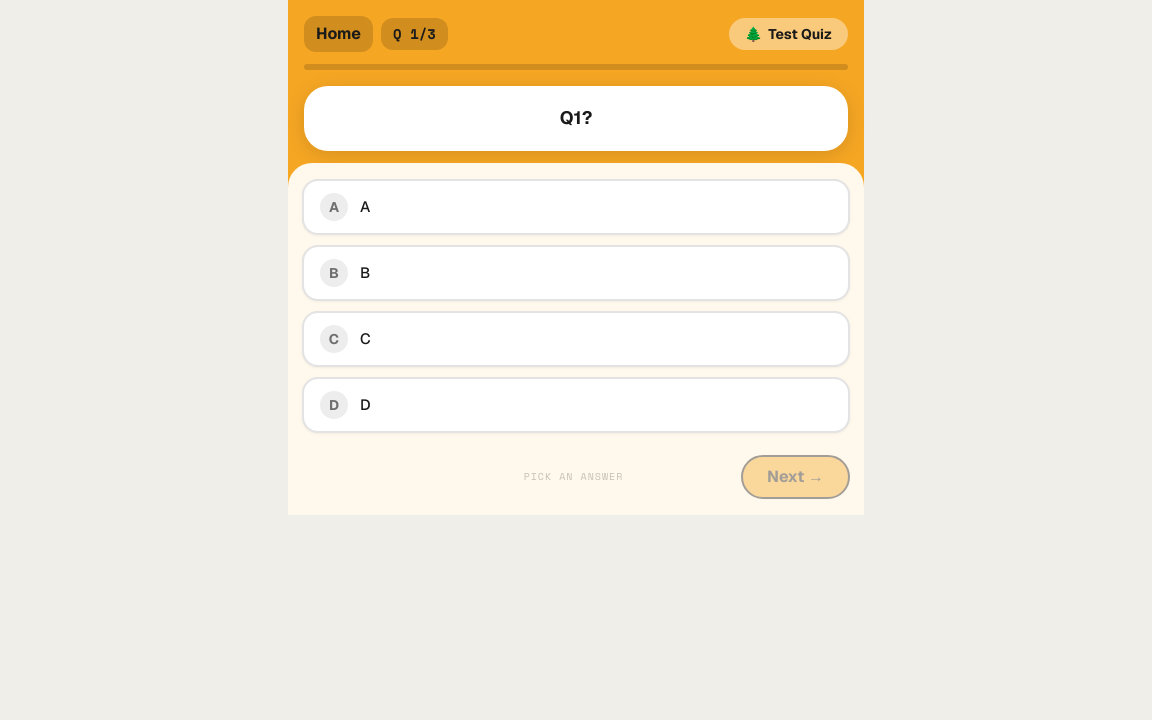
Test: QuizPlayer › counts only correct answers
The width and height of the screenshot is (1152, 720).
Click the button with test id "option": x=334, y=273 [302,245,850,301]
Wait 2500 ms
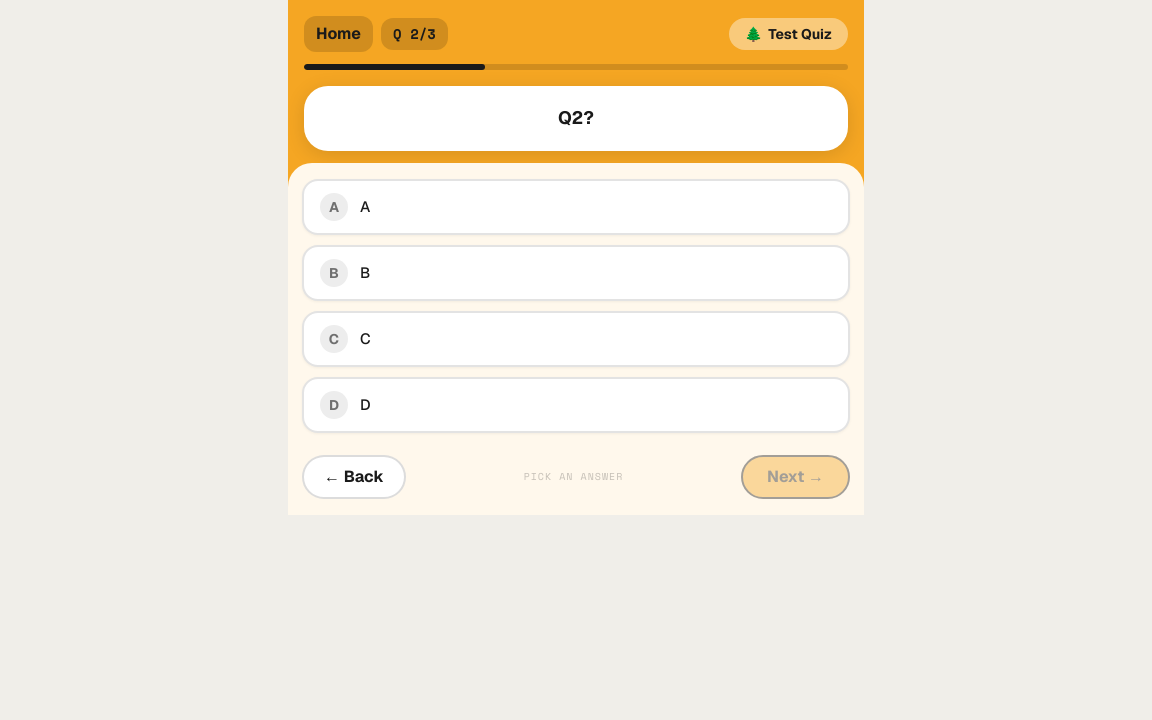
Click the button with test id "option": x=334, y=273 [302,245,850,301]
Wait 2500 ms
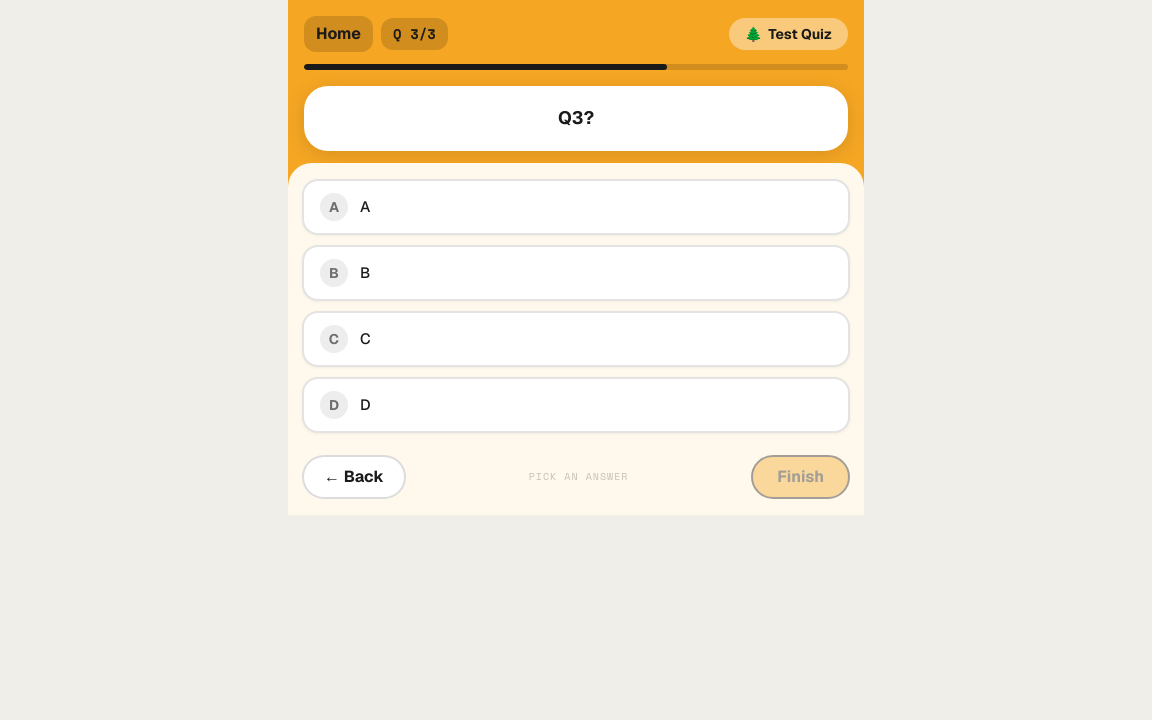
Click the button with test id "option": x=334, y=339 [302,311,850,367]
Wait 2500 ms
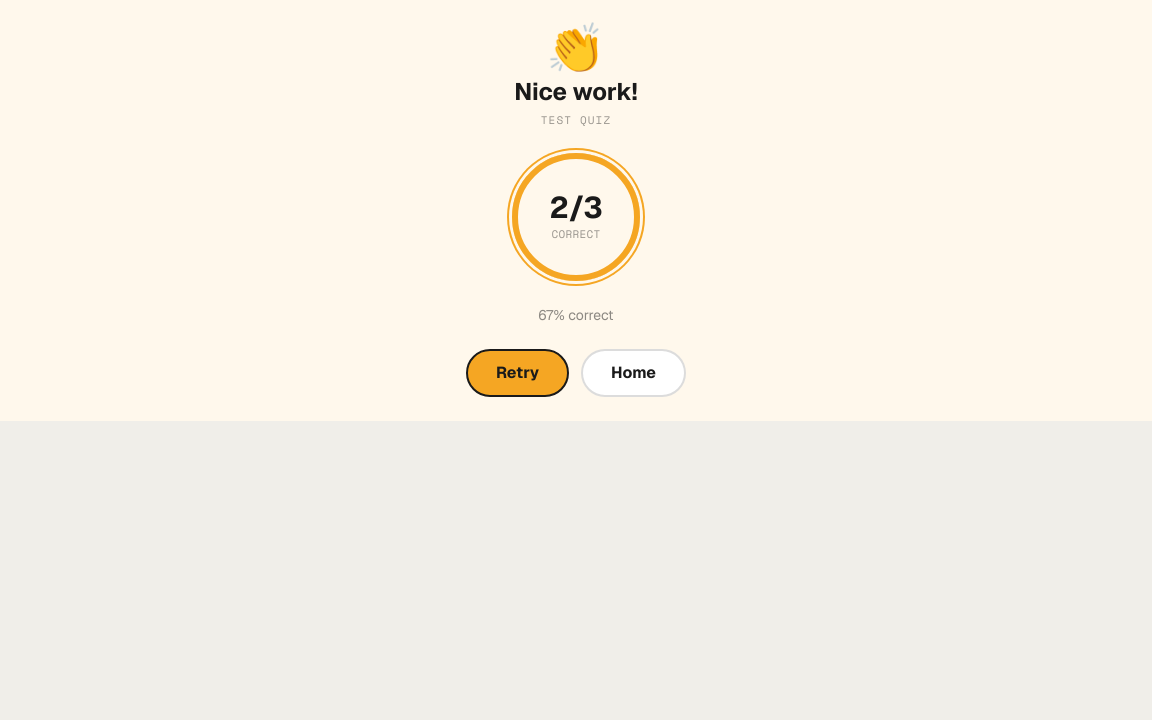
Result: the text "2/3" is shown at [549,190,603,226]
